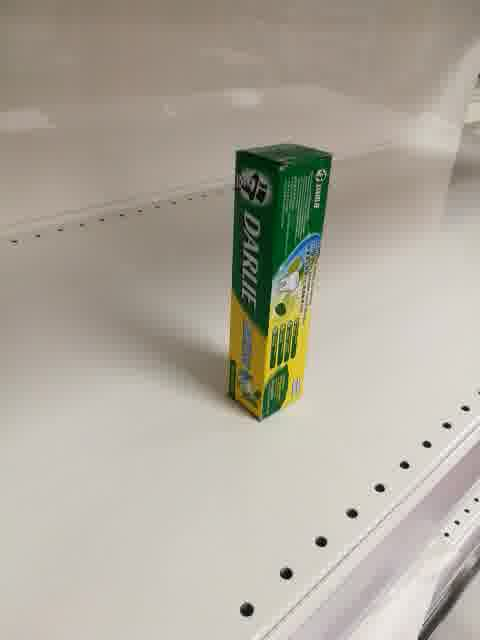toothpaste: (228, 141, 332, 422)
